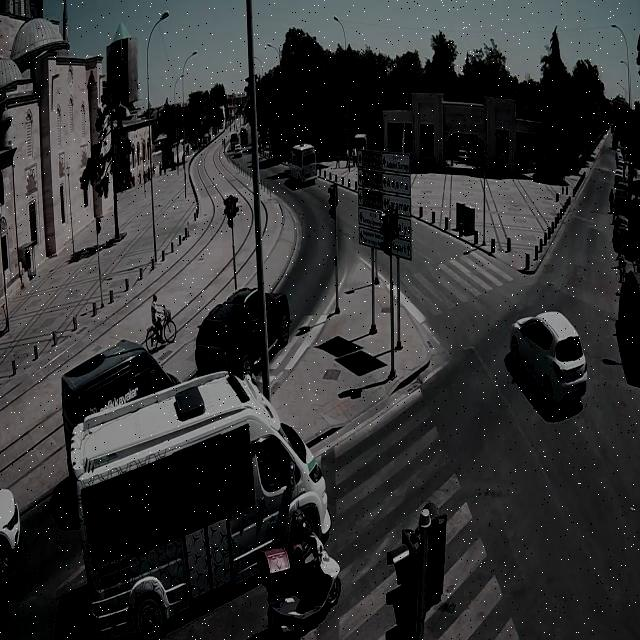Bus: (288, 144, 318, 183)
Car: (195, 285, 292, 379), (507, 309, 590, 412), (0, 486, 24, 560), (234, 143, 244, 158)
Cycle: (259, 532, 340, 626)
Truck: (71, 372, 332, 638)
